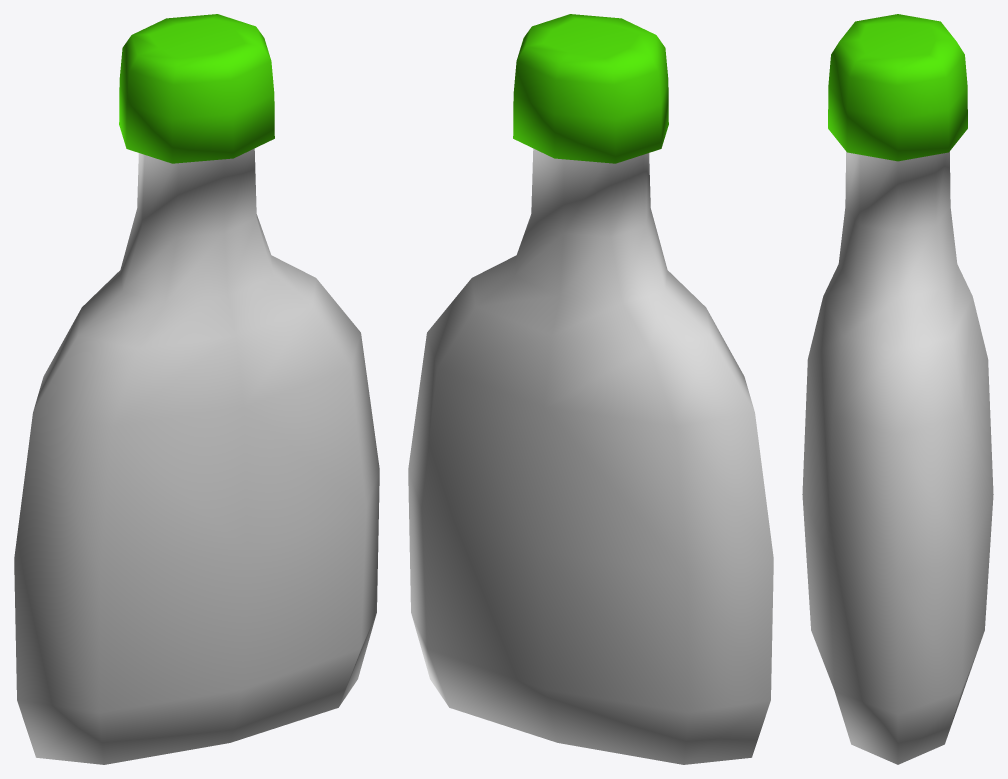
File: GarrafaOW_2.fbx
The picture shows the model from 3 angles, left to right: view 1: azimuth 30°, elevation 25°; view 2: azimuth 150°, elevation 25°; view 3: azimuth 270°, elevation 25°; orthographic projection. The views are drawn at different scales.
Visible parts, largest first — view 1: GarrafaOW_2; view 2: GarrafaOW_2; view 3: GarrafaOW_2.
Part boxes in pixels (bbox=[...]): GarrafaOW_2: bbox=[14, 14, 379, 764]; GarrafaOW_2: bbox=[408, 14, 773, 764]; GarrafaOW_2: bbox=[802, 14, 993, 764].
Size of the model in its own units: 17.08 by 30.73 by 8.08.
